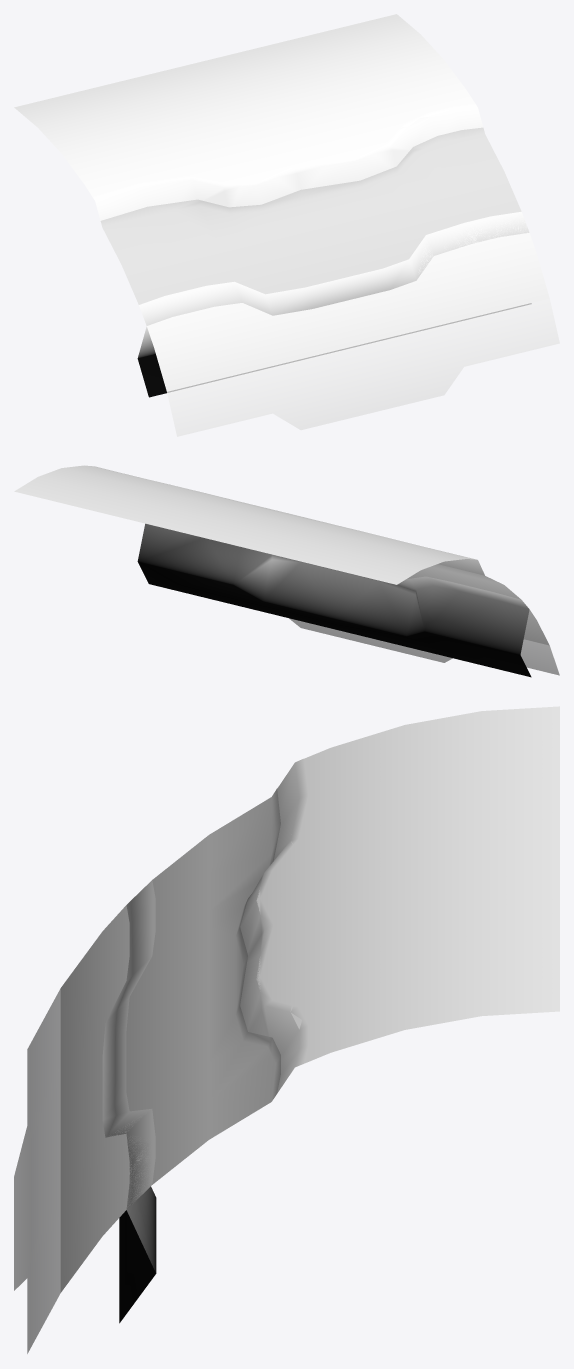
The model's file is grd_Is_0.dae.
3 renders of one model, top to bottom at view 1: azimuth 30°, elevation 25°; view 2: azimuth 150°, elevation 25°; view 3: azimuth 270°, elevation 25°, orthographic. The views are drawn at different scales.
Visible parts, largest first — view 1: grd_Is_0; view 2: grd_Is_0; view 3: grd_Is_0.
Boxes of the visible parts, x1,y1,x2,y2 form: grd_Is_0: [14, 14, 559, 436]; grd_Is_0: [14, 465, 559, 677]; grd_Is_0: [14, 706, 559, 1353].
Bounding box in the file's own units: 512 × 293 × 387.
Materials: 6 (1 with a texture image).
